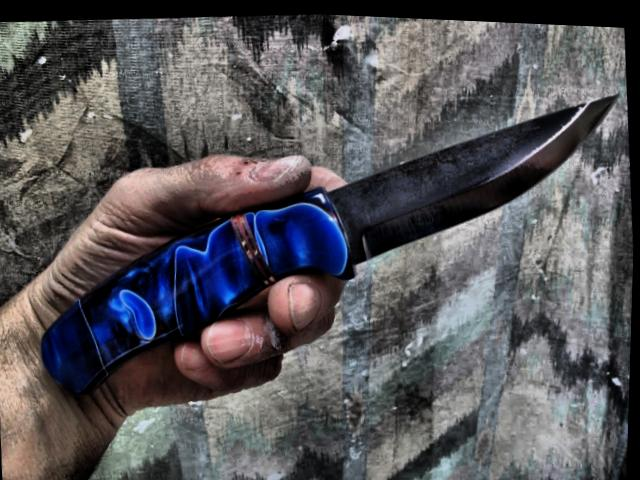knife: (179, 67, 639, 387)
